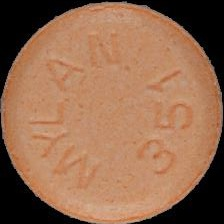52125-937: (0, 0, 224, 224)
